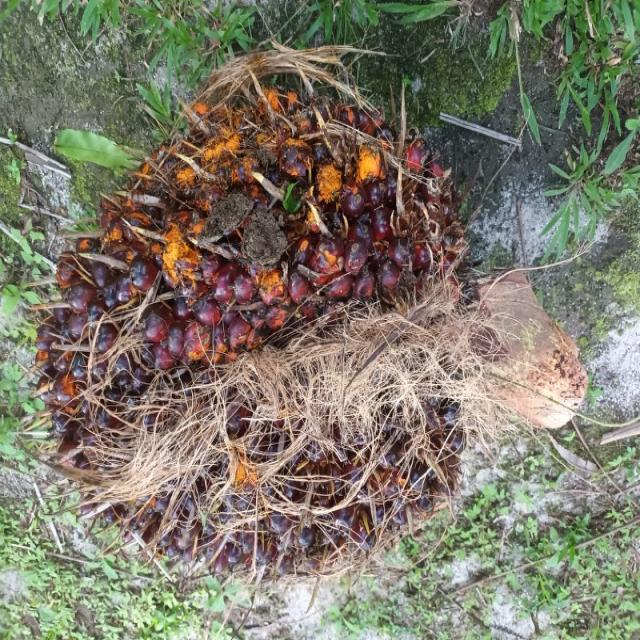fraksi 1: (144, 12, 608, 573)
